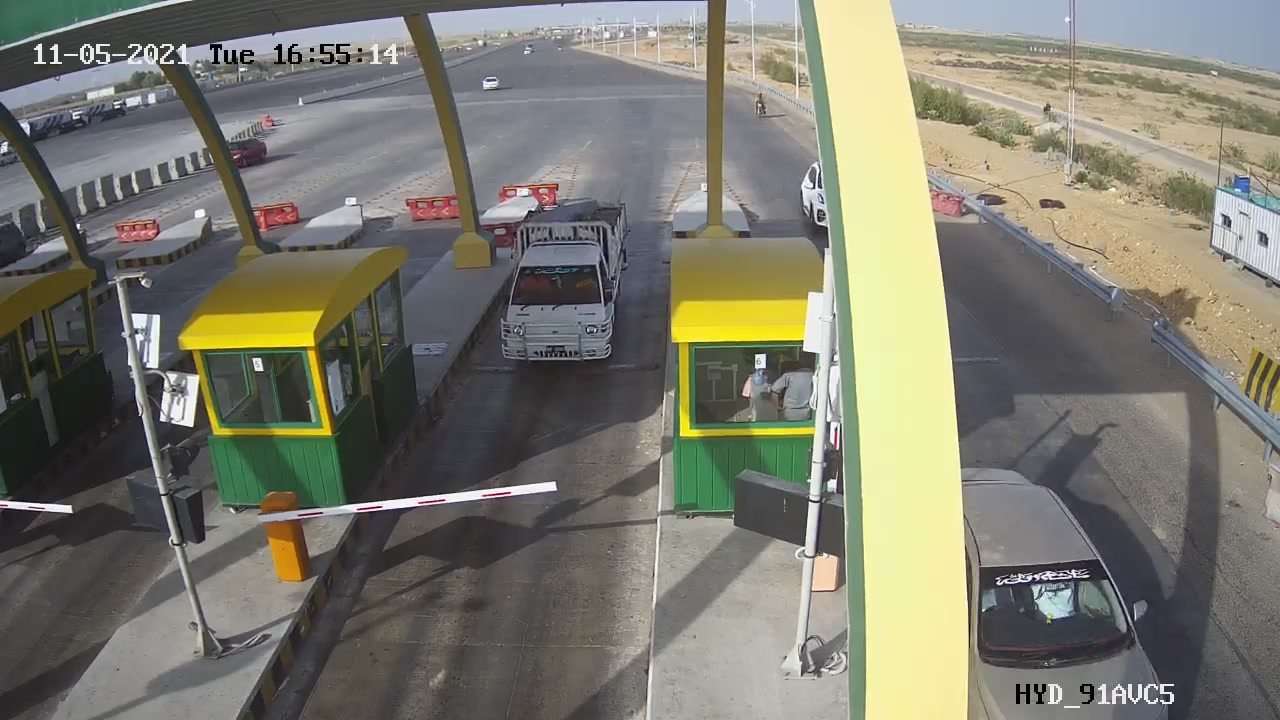F2: (479, 186, 652, 380)
